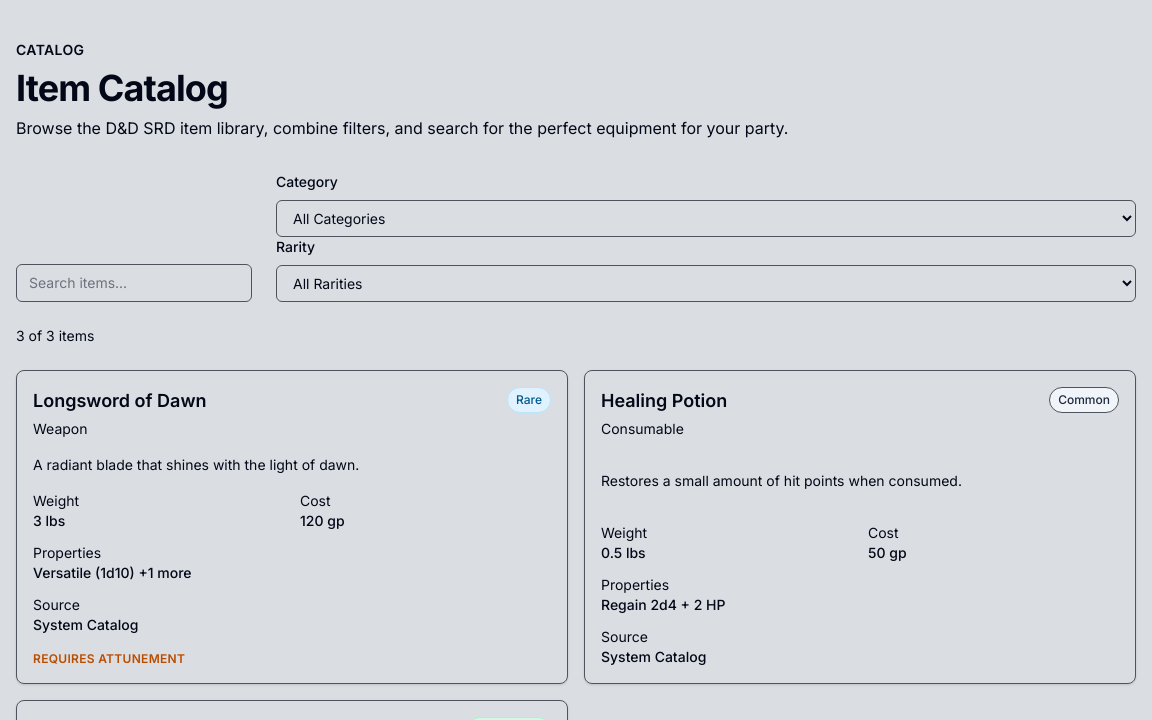
Test: ItemsPage integration - US1 list filtering and search › searches items by name and description
Expected: the heading "Item Catalog" is shown, [16,66,228,110]
Type "potion" into the field with placeholder "Search items..." at x=134, y=283, box [16,264,252,302]
Wait 300 ms
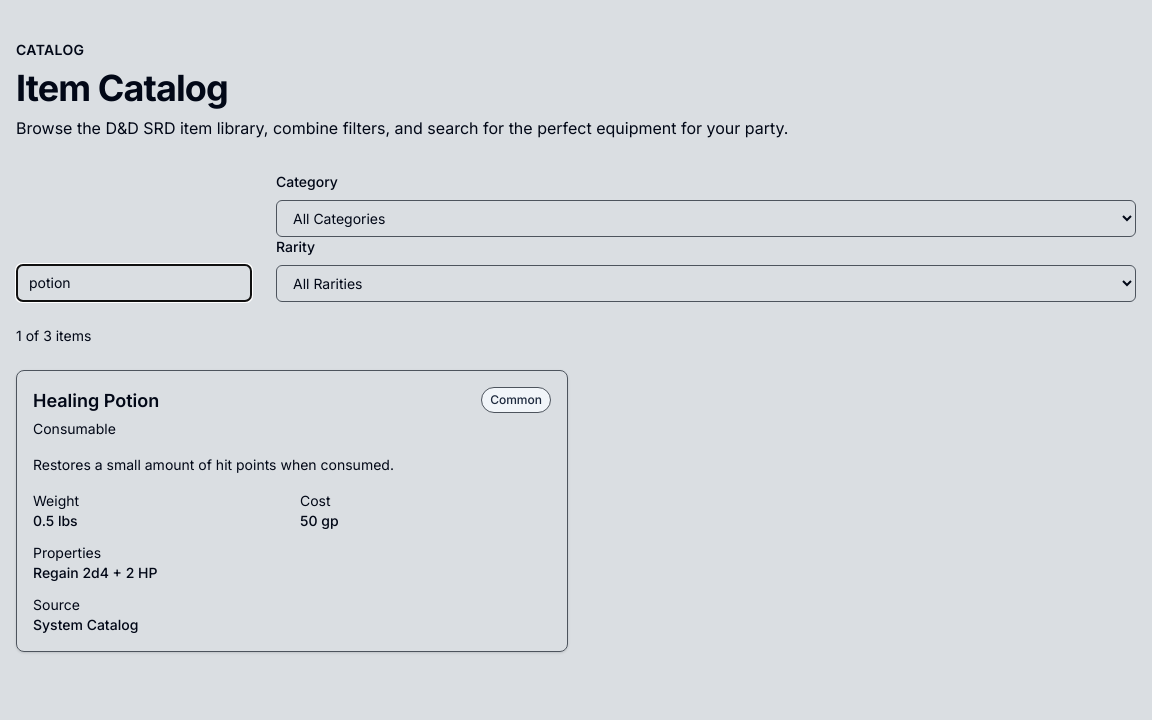
Expected: the heading "Healing Potion" is shown, [33,387,159,415]
Now the link "Longsword of Dawn" is gone
